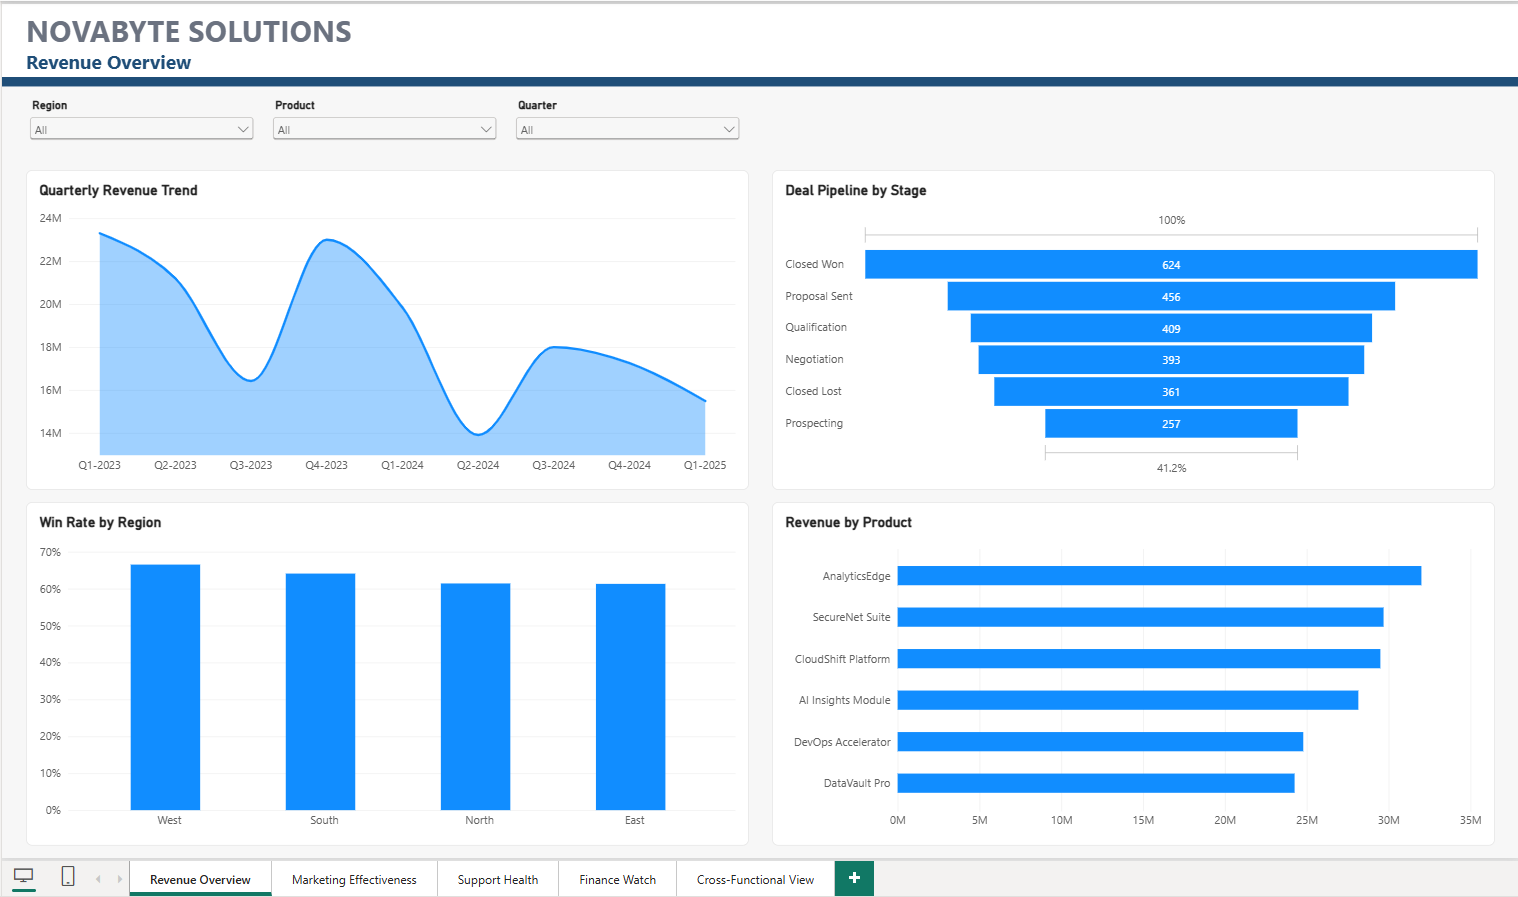

This screenshot's page, from the dashboard's own definition file:
{"tool":"powerbi","page":{"name":"Revenue Overview","canvas":[1920,1080],"ordinal":0},"visuals":[{"type":"lineChart","title":"Quarterly Revenue Trend","fields":{"Category":["Sales_Deals.Quarter"],"Y":["Measures_Table.Total Revenue"]},"box":[30,210,915,405],"z":0},{"type":"funnel","title":"Deal Pipeline by Stage","fields":{"Category":["Sales_Deals.Deal_Stage"],"Y":["CountNonNull(Sales_Deals.Deal_ID)"]},"box":[975,210,915,405],"z":1000},{"type":"columnChart","title":"Win Rate by Region","fields":{"Category":["Sales_Deals.Region"],"Y":["Measures_Table.Win Rate"]},"box":[30,630,915,435],"z":2000},{"type":"barChart","title":"Revenue by Product","fields":{"Category":["Sales_Deals.Product"],"Y":["Measures_Table.Total Revenue"]},"box":[975,630,915,435],"z":3000},{"type":"slicer","fields":{"Values":["Clients.Region"]},"box":[30,120,293,55],"z":4000},{"type":"slicer","fields":{"Values":["Sales_Deals.Product"]},"box":[338,120,293,55],"z":5000},{"type":"slicer","fields":{"Values":["Sales_Deals.Quarter"]},"box":[645,120,293,55],"z":6000},{"type":"shape","box":[0,0,1920,105],"z":7000},{"type":"shape","box":[0,93,1920,12],"z":8000},{"type":"textbox","box":[30,8,600,85],"z":9000}]}

Visuals, with their boxes on the page's 1920x1080 design canvas (x1, y1, x2, y2). These are canvas units, not pixel positions in the 1518x897 screenshot, which may show the page scaled, cropped or inside an application window:
"Quarterly Revenue Trend" lineChart: x1=30 y1=210 x2=945 y2=615
"Deal Pipeline by Stage" funnel: x1=975 y1=210 x2=1890 y2=615
"Win Rate by Region" columnChart: x1=30 y1=630 x2=945 y2=1065
"Revenue by Product" barChart: x1=975 y1=630 x2=1890 y2=1065
slicer - Clients.Region: x1=30 y1=120 x2=323 y2=175
slicer - Sales_Deals.Product: x1=338 y1=120 x2=631 y2=175
slicer - Sales_Deals.Quarter: x1=645 y1=120 x2=938 y2=175
shape: x1=0 y1=0 x2=1920 y2=105
shape: x1=0 y1=93 x2=1920 y2=105
textbox: x1=30 y1=8 x2=630 y2=93
